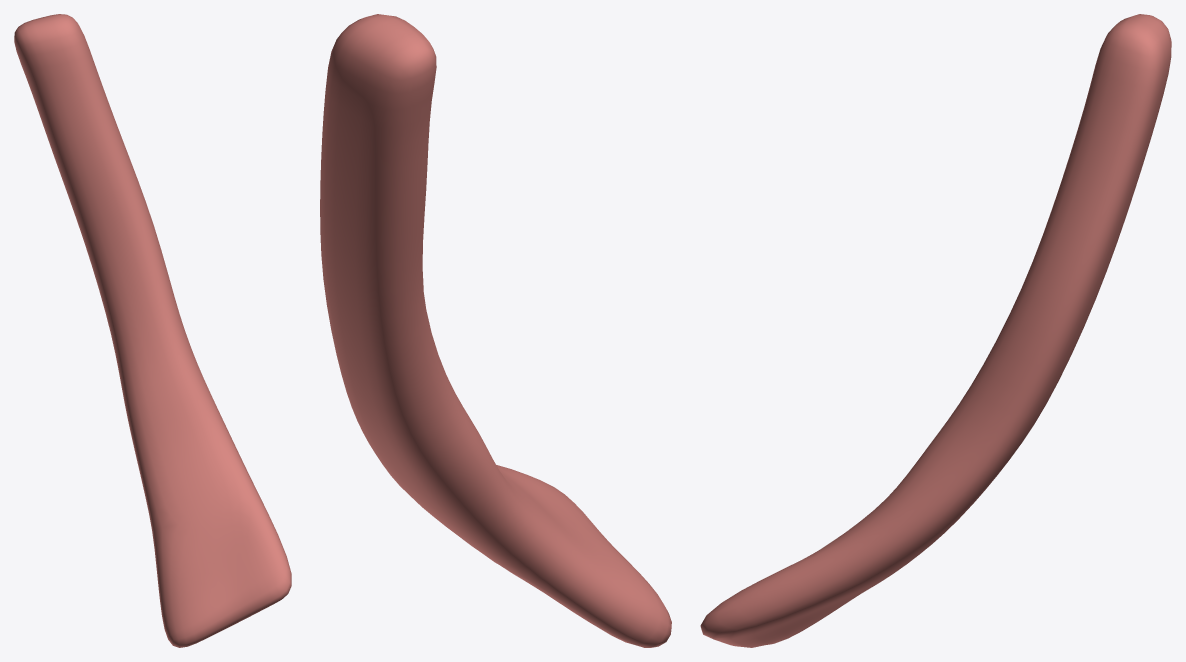
The picture shows the model from 3 angles, left to right: view 1: azimuth 30°, elevation 25°; view 2: azimuth 150°, elevation 25°; view 3: azimuth 270°, elevation 25°; orthographic projection. The views are drawn at different scales.
Visible parts, largest first — view 1: ZA_3fb8ff08acb4bb50; view 2: ZA_3fb8ff08acb4bb50; view 3: ZA_3fb8ff08acb4bb50.
Part boxes in pixels (left/top/right/bottom): ZA_3fb8ff08acb4bb50: left=14, top=14, right=291, bottom=647; ZA_3fb8ff08acb4bb50: left=320, top=14, right=671, bottom=647; ZA_3fb8ff08acb4bb50: left=700, top=14, right=1171, bottom=647.
Size of the model in its own units: 0.0167 by 0.069 by 0.0464.
